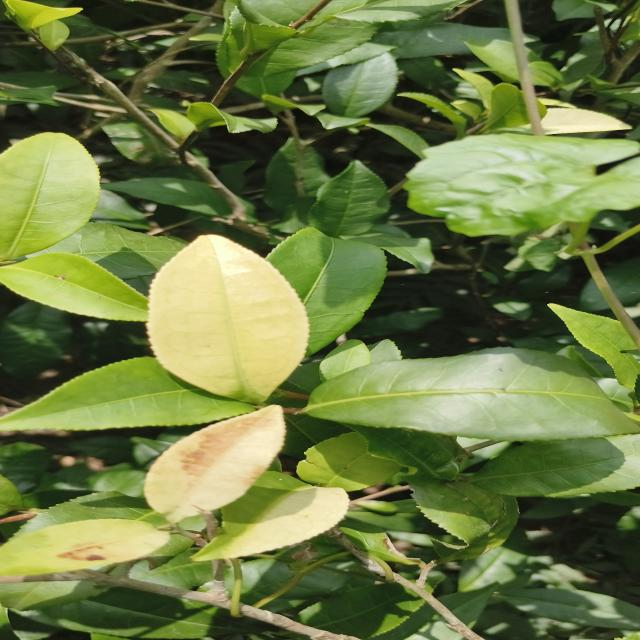Leaf: (305, 348, 637, 441), (146, 235, 309, 404), (217, 0, 460, 78), (0, 357, 254, 431), (144, 405, 285, 523), (266, 228, 386, 355), (192, 471, 349, 562), (0, 133, 100, 260), (21, 588, 264, 640), (471, 434, 640, 497), (0, 253, 147, 322), (0, 519, 169, 576), (28, 222, 187, 280), (413, 480, 518, 562), (549, 304, 640, 389), (298, 583, 424, 640), (351, 425, 464, 486), (16, 492, 165, 538), (263, 138, 329, 232), (308, 161, 389, 237), (297, 432, 400, 491), (499, 588, 640, 631), (0, 301, 71, 377), (102, 177, 230, 217), (323, 53, 398, 117), (374, 24, 509, 59), (349, 232, 434, 274), (130, 549, 212, 590), (229, 10, 295, 60), (458, 546, 528, 592), (398, 92, 466, 139), (186, 102, 277, 133), (0, 442, 51, 493), (542, 107, 631, 135), (482, 83, 529, 133), (465, 39, 519, 81), (369, 122, 429, 159), (320, 339, 371, 381), (603, 258, 640, 307), (453, 68, 493, 108), (526, 48, 562, 87), (147, 109, 195, 138), (0, 86, 56, 106), (39, 20, 70, 50), (580, 281, 608, 312)
